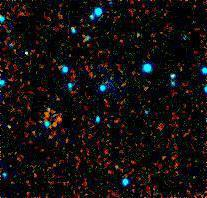star: (37, 108, 67, 138)
